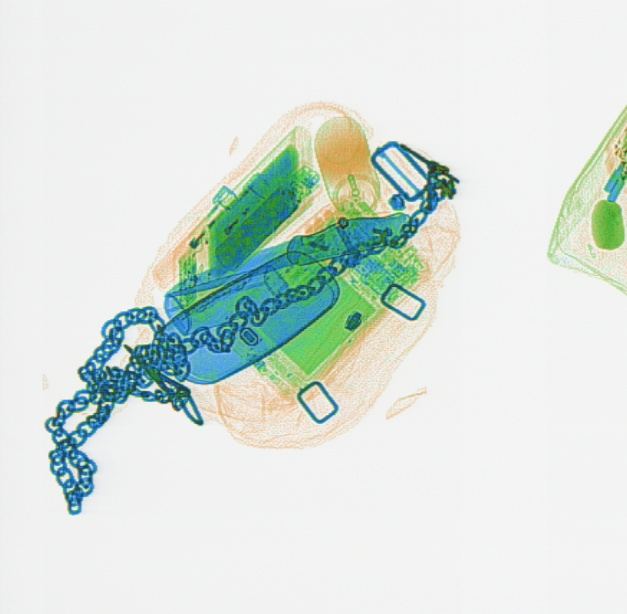knife: (159, 210, 418, 298)
lighter: (151, 184, 236, 292)
pressure: (313, 110, 382, 216)
